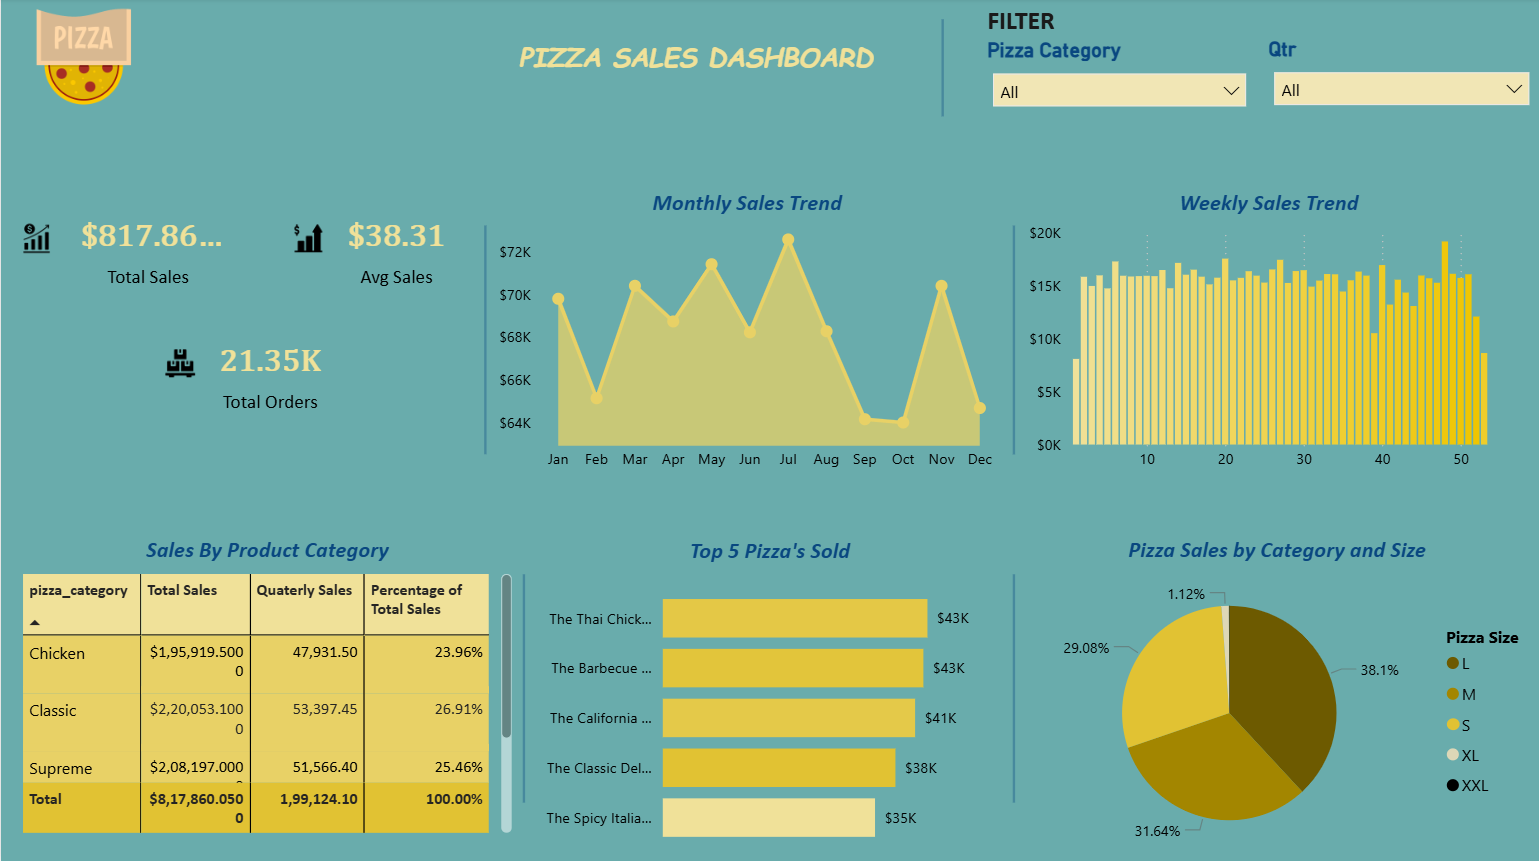

The page's visual inventory and layout, read from the dashboard file:
{"tool":"powerbi","page":{"name":"Page 1","canvas":[1280,720],"ordinal":0},"visuals":[{"type":"image","box":[0,0,137.2,97.7],"z":0},{"type":"lineChart","title":"Monthly Sales Trend","fields":{"Category":["Date Table.Month Name"],"Y":["Sum(pizza_sales.total_price)"]},"box":[413.6,153.8,413.6,247.3],"z":1000},{"type":"textbox","box":[328.4,14.5,498.8,97.7],"z":2000},{"type":"columnChart","title":"Weekly Sales Trend","fields":{"Category":["Date Table.Week"],"Y":["Sum(pizza_sales.total_price)"]},"box":[854.3,153.8,400.1,247.3],"z":3000},{"type":"pivotTable","title":"Sales By Product Category","fields":{"Rows":["pizza_sales.pizza_category"],"Values":["pizza_sales.Total Sales","pizza_sales.Quaterly Sales","Divide(pizza_sales.Total Sales, ScopedEval(pizza_sales.Total Sales, []))"]},"box":[14,436,416.3,262.8],"z":4000},{"type":"cardVisual","fields":{"Data":["pizza_sales.Total Sales"]},"box":[0,153.8,201.6,121.6],"z":5000},{"type":"cardVisual","fields":{"Data":["pizza_sales.Total Orders"]},"box":[117.4,257.7,168.4,121.6],"z":6000},{"type":"cardVisual","fields":{"Data":["pizza_sales.Avg Sales"]},"box":[222.4,153.8,168.4,121.6],"z":7000},{"type":"shape","box":[738.9,17.7,88.3,81.1],"z":8000},{"type":"slicer","title":"Pizza Category","fields":{"Values":["pizza_sales.pizza_category"]},"box":[820,33.3,225.5,65.5],"z":9000},{"type":"slicer","title":"Qtr","fields":{"Values":["Date Table.Qtr"]},"box":[1053.5,32.6,226.7,65.1],"z":10000},{"type":"barChart","title":"Top 5 Pizza''s Sold","fields":{"Category":["pizza_sales.pizza_name"],"Y":["pizza_sales.Total Sales"]},"box":[436,437.2,405.8,282.6],"z":11000},{"type":"pieChart","title":"Pizza Sales by Category and Size","fields":{"Category":["pizza_sales.pizza_size"],"Y":["CountNonNull(pizza_sales.pizza_category)"]},"box":[841.8,436.5,438.6,283.7],"z":12000},{"type":"shape","box":[359.6,189.1,86.3,190.2],"z":13000},{"type":"shape","box":[390.7,479.1,88.4,190.7],"z":14000},{"type":"shape","box":[797.7,479.1,88.4,190.7],"z":15000},{"type":"shape","box":[798.2,189.1,88.3,190.2],"z":16000},{"type":"shape","title":"FILTER","box":[820,5,117.4,25],"z":17000}]}

Visuals, with their boxes in screenshot pixels (x1, y1, x2, y2), scaled from the page's 1280x720 canvas onto the 1539x861 screenshot:
image: select_region(0, 0, 165, 117)
"Monthly Sales Trend" lineChart: select_region(497, 184, 995, 480)
textbox: select_region(395, 17, 995, 134)
"Weekly Sales Trend" columnChart: select_region(1027, 184, 1508, 480)
"Sales By Product Category" pivotTable: select_region(17, 521, 517, 836)
cardVisual - pizza_sales.Total Sales: select_region(0, 184, 242, 329)
cardVisual - pizza_sales.Total Orders: select_region(141, 308, 344, 454)
cardVisual - pizza_sales.Avg Sales: select_region(267, 184, 470, 329)
shape: select_region(888, 21, 995, 118)
"Pizza Category" slicer: select_region(986, 40, 1257, 118)
"Qtr" slicer: select_region(1267, 39, 1538, 117)
"Top 5 Pizza''s Sold" barChart: select_region(524, 523, 1012, 860)
"Pizza Sales by Category and Size" pieChart: select_region(1012, 522, 1538, 860)
shape: select_region(432, 226, 536, 454)
shape: select_region(470, 573, 576, 801)
shape: select_region(959, 573, 1065, 801)
shape: select_region(960, 226, 1066, 454)
"FILTER" shape: select_region(986, 6, 1127, 36)
